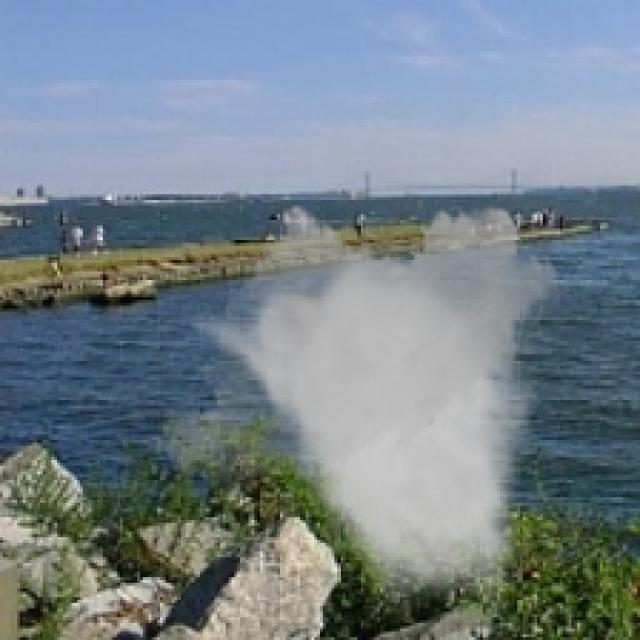smoke: (152, 194, 572, 620)
